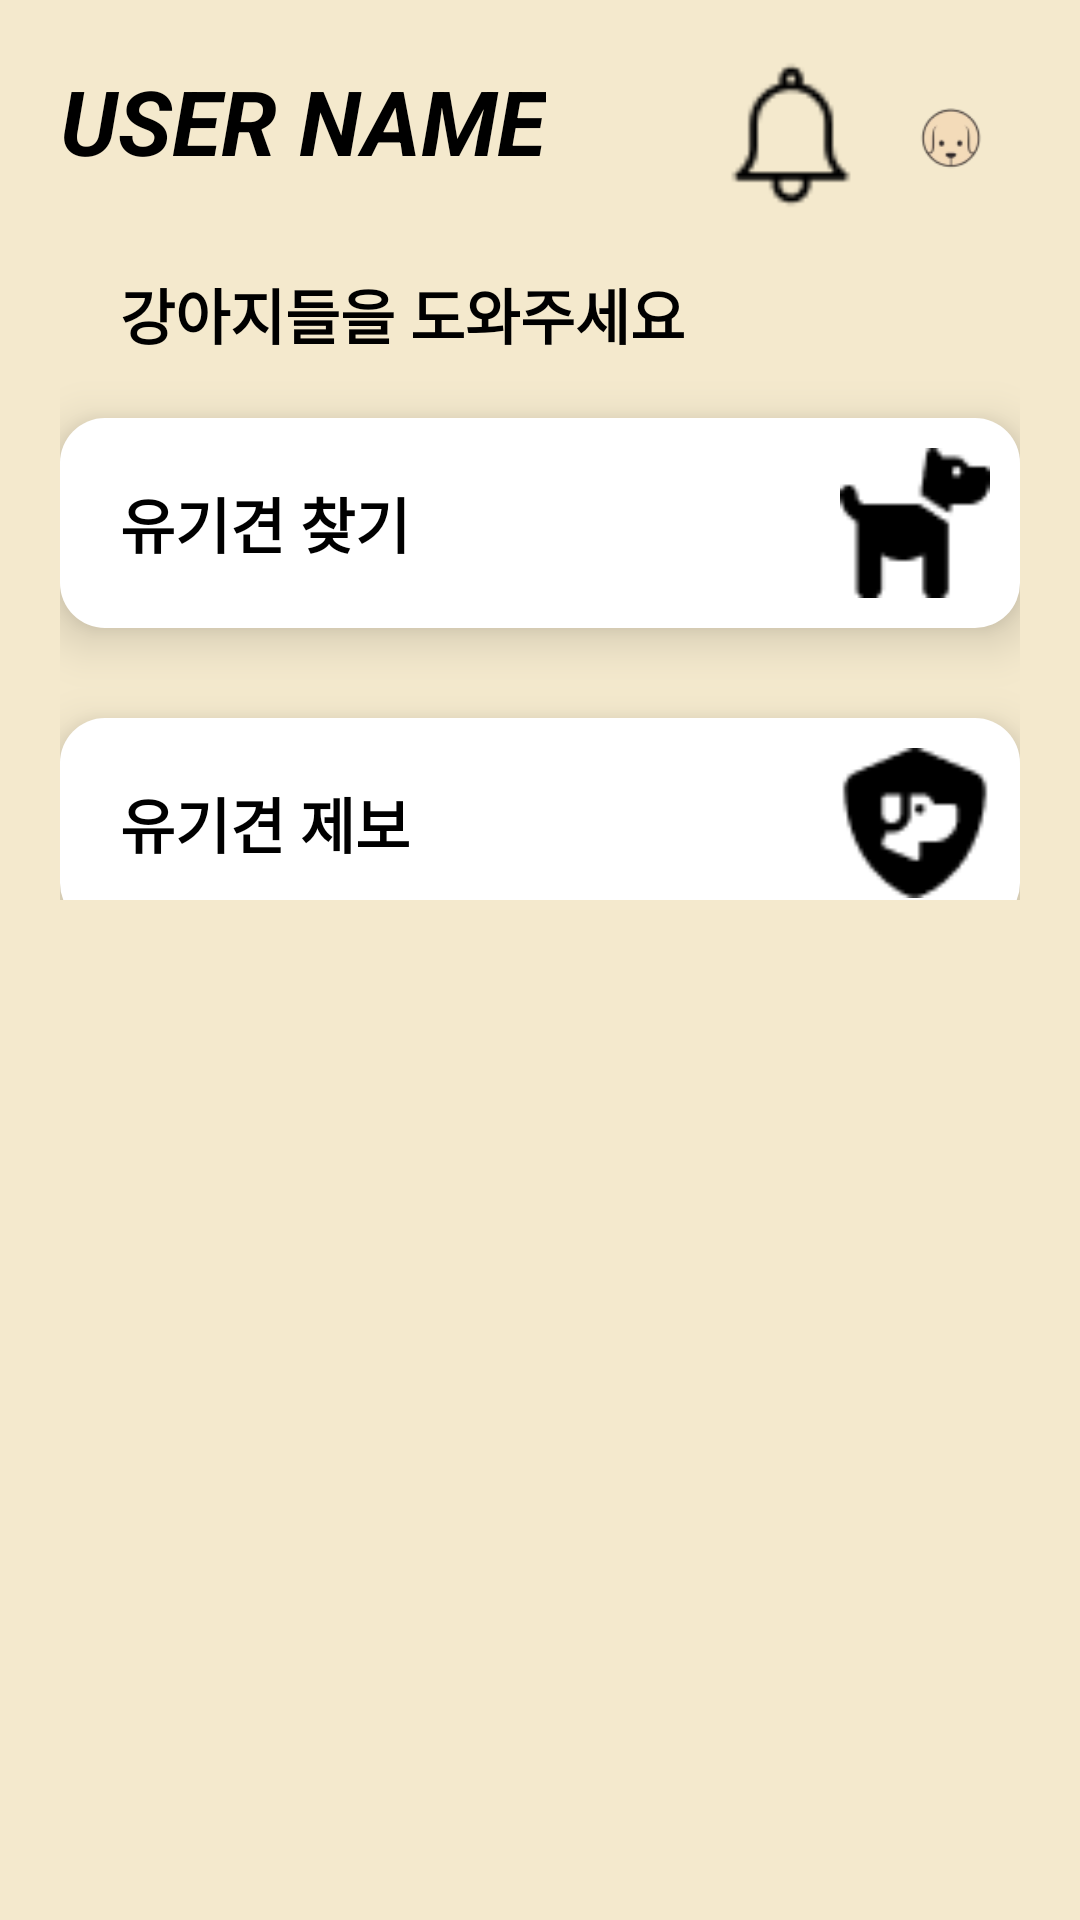

Screen size 1080 x 1920. Icon name, then its center in pixels as [x,y]:
alarm: [791,135]
dogicon: [951,138], [915,523], [915,823]
